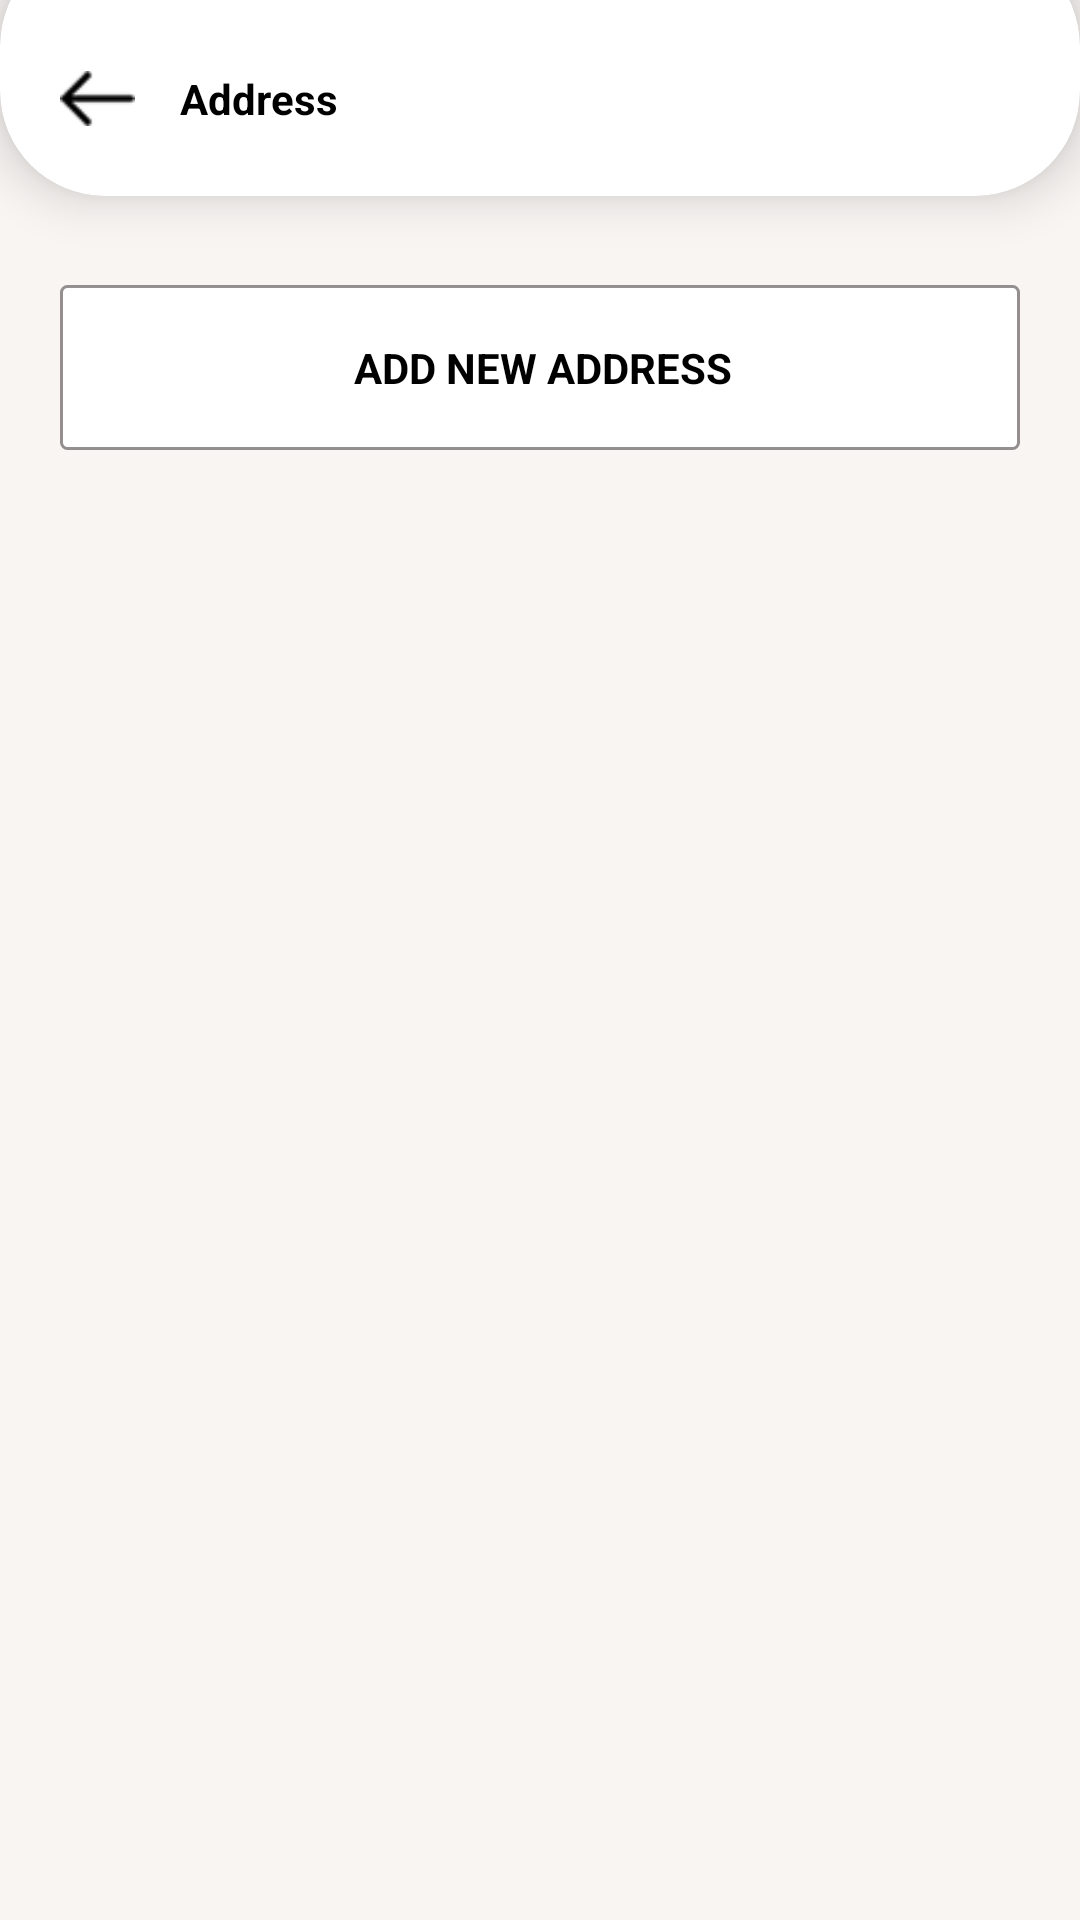

Icons on this 1080w x 1920h Android screen, each with the point to tap as point (x, y):
back: point (97, 98)
